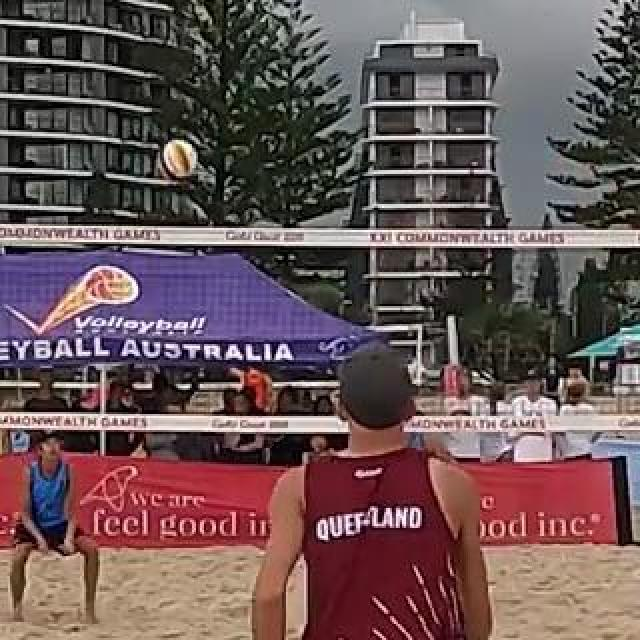volleyball: (162, 140, 200, 178)
